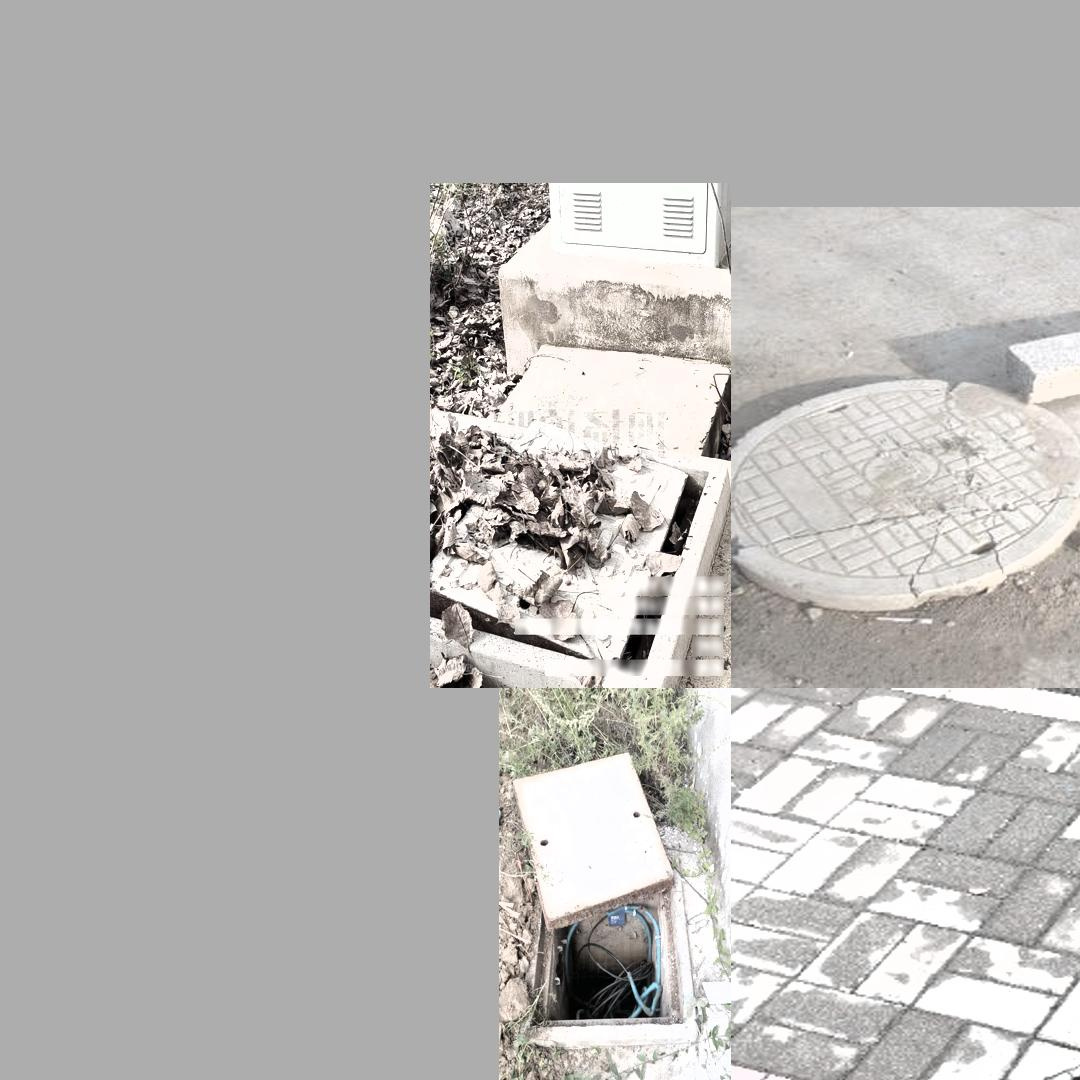uncovered: (737, 367, 1080, 621), (434, 410, 726, 688), (511, 751, 700, 1045), (894, 1052, 1080, 1080)
